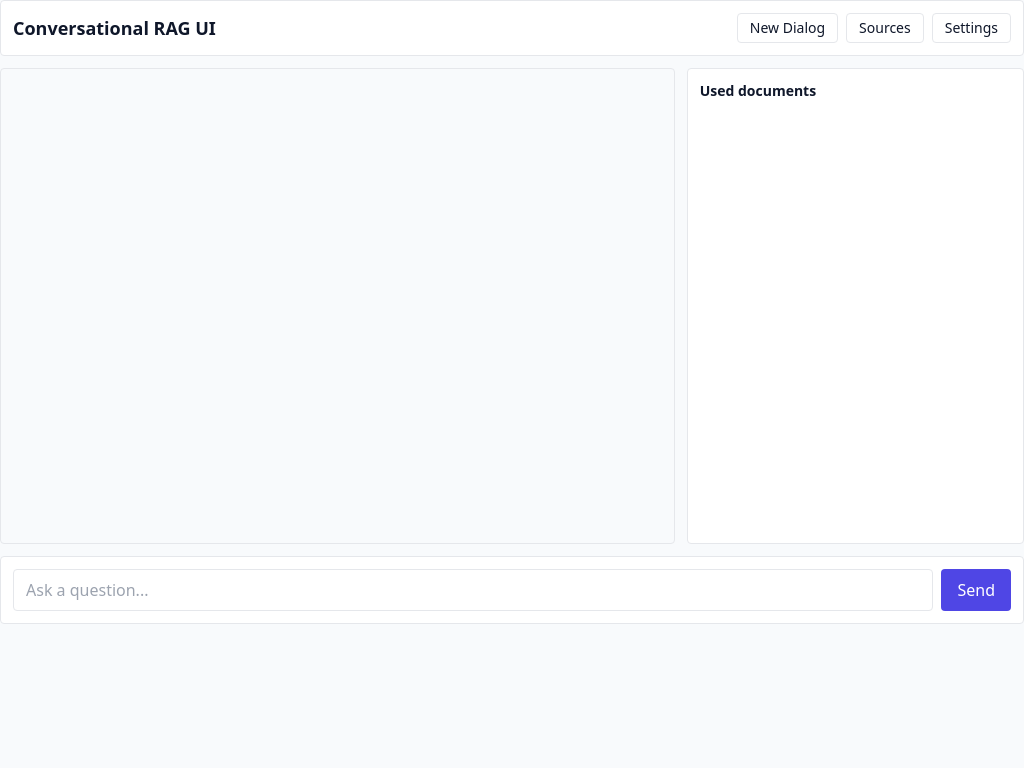
Test: QueryPage conversational UI › renders assistant structured answer with sources
Type "what is policy" into the field with placeholder "Ask a question..." at (473, 590), box [13, 569, 934, 611]
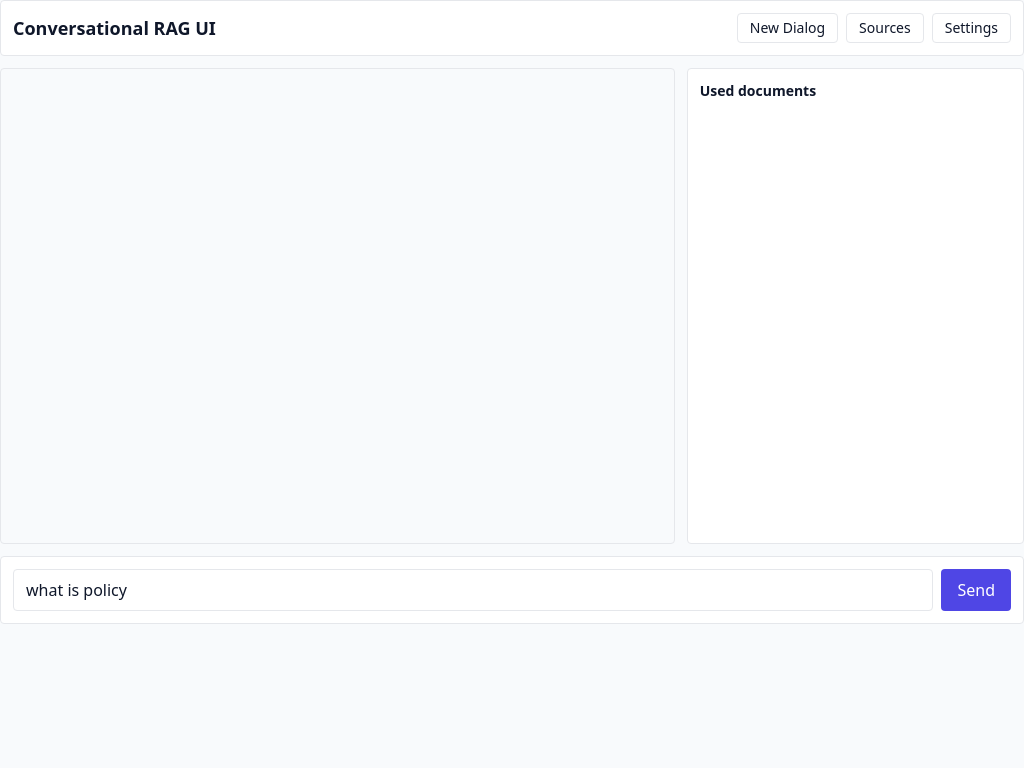
Click the button "Send" at (976, 590), box [942, 569, 1011, 611]
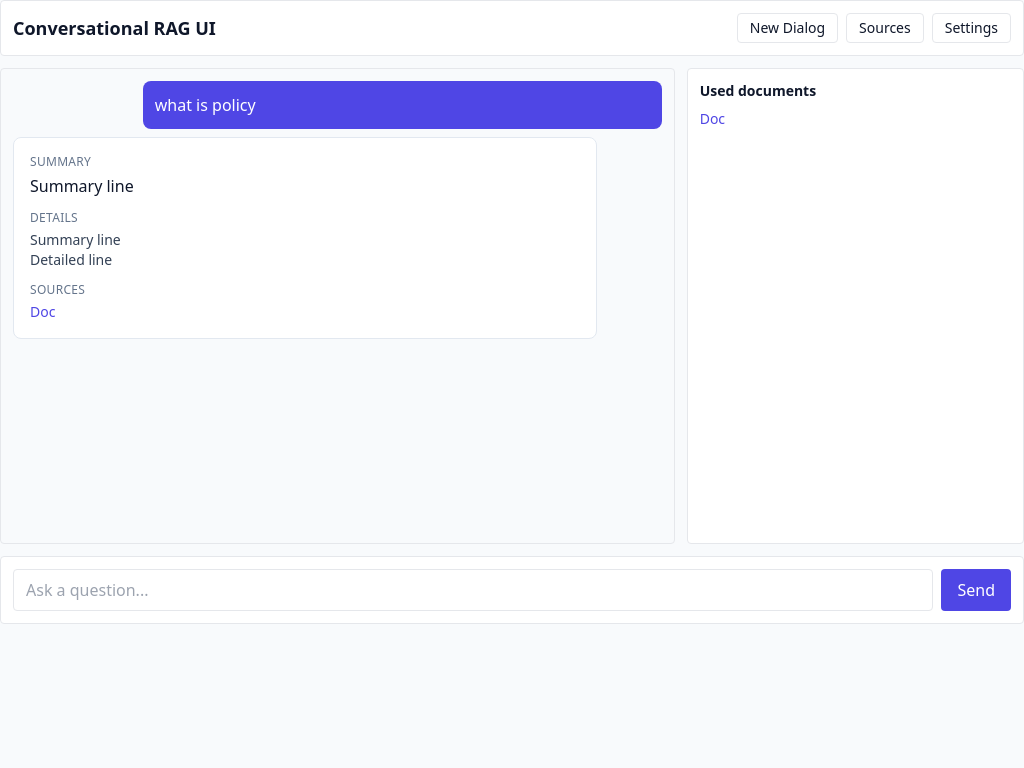
Check: the text "Summary" is shown, box [30, 153, 91, 170]
Check: the button "Doc" below "Summary line Detailed line" is shown, box [30, 302, 55, 322]
Check: the text "Details" is shown, box [30, 209, 78, 226]
